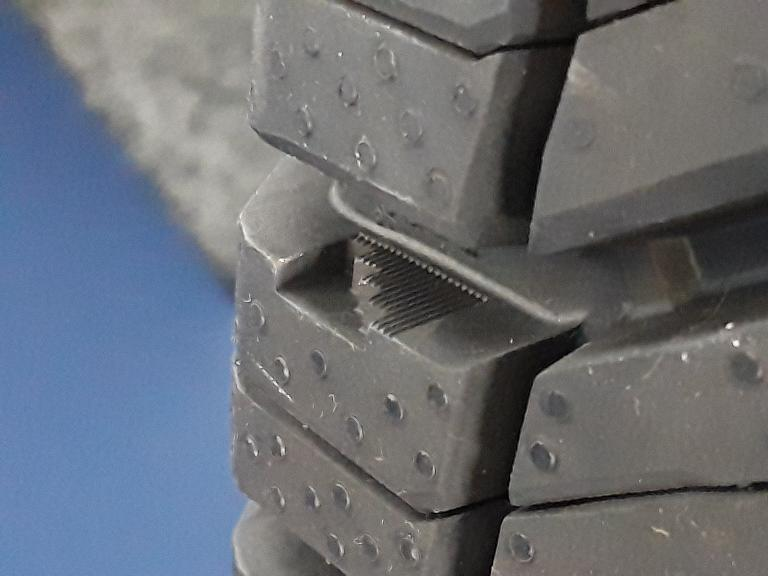temoin:100: (272, 228, 486, 357)
